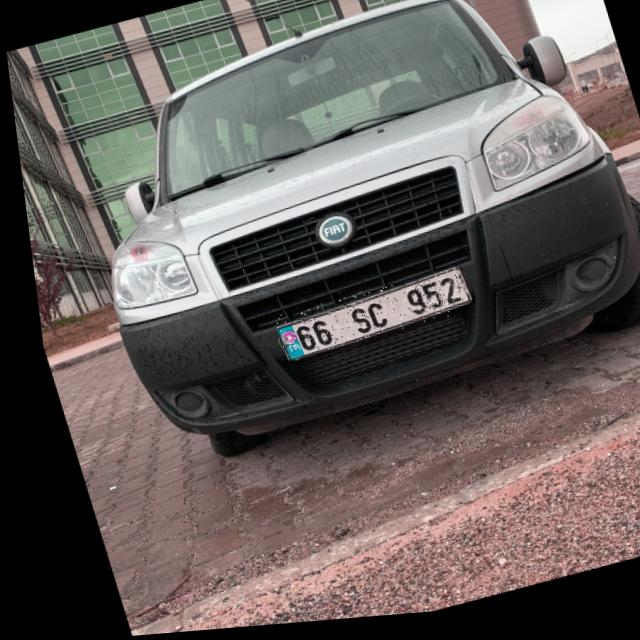license_plate: (260, 274, 467, 364)
